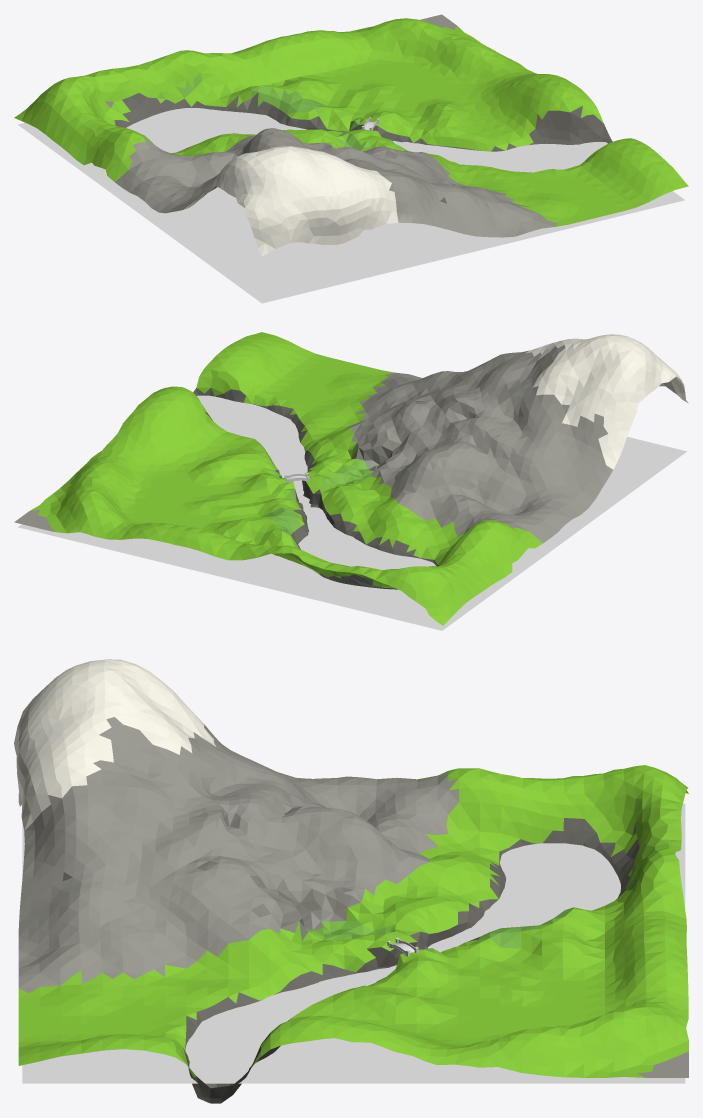
File: landscape1.fbx
3 renders of one model, top to bottom at view 1: azimuth 30°, elevation 25°; view 2: azimuth 150°, elevation 25°; view 3: azimuth 270°, elevation 25°, orthographic. The views are drawn at different scales.
Parts seen in each view (by area): view 1: Plane, Plane.001; view 2: Plane, Plane.001; view 3: Plane, Plane.001.
Boxes of the visible parts, x1=… form: Plane: x1=14, y1=14, x2=688, y2=256; Plane.001: x1=18, y1=108, x2=684, y2=303; Plane: x1=14, y1=332, x2=688, y2=625; Plane.001: x1=18, y1=395, x2=686, y2=630; Plane: x1=14, y1=659, x2=688, y2=1103; Plane.001: x1=22, y1=803, x2=685, y2=1083.
Size of the model in its own units: 2241 by 728 by 2233.
